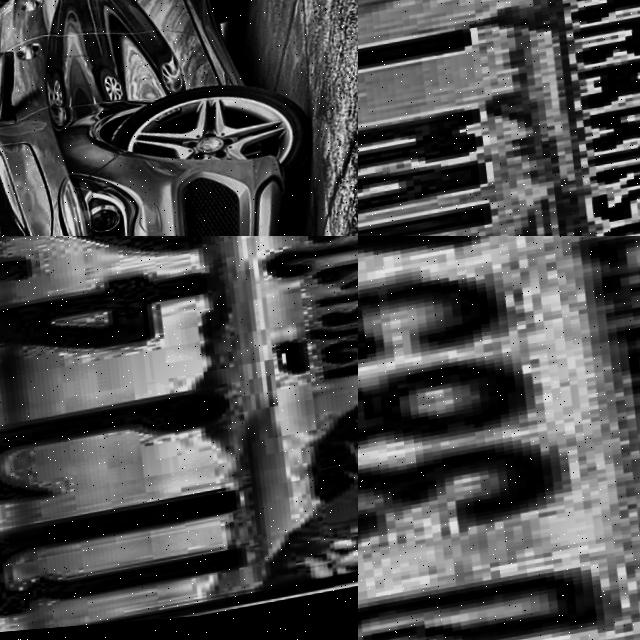license-plate: (0, 236, 358, 640), (358, 236, 640, 640), (358, 0, 640, 236)
